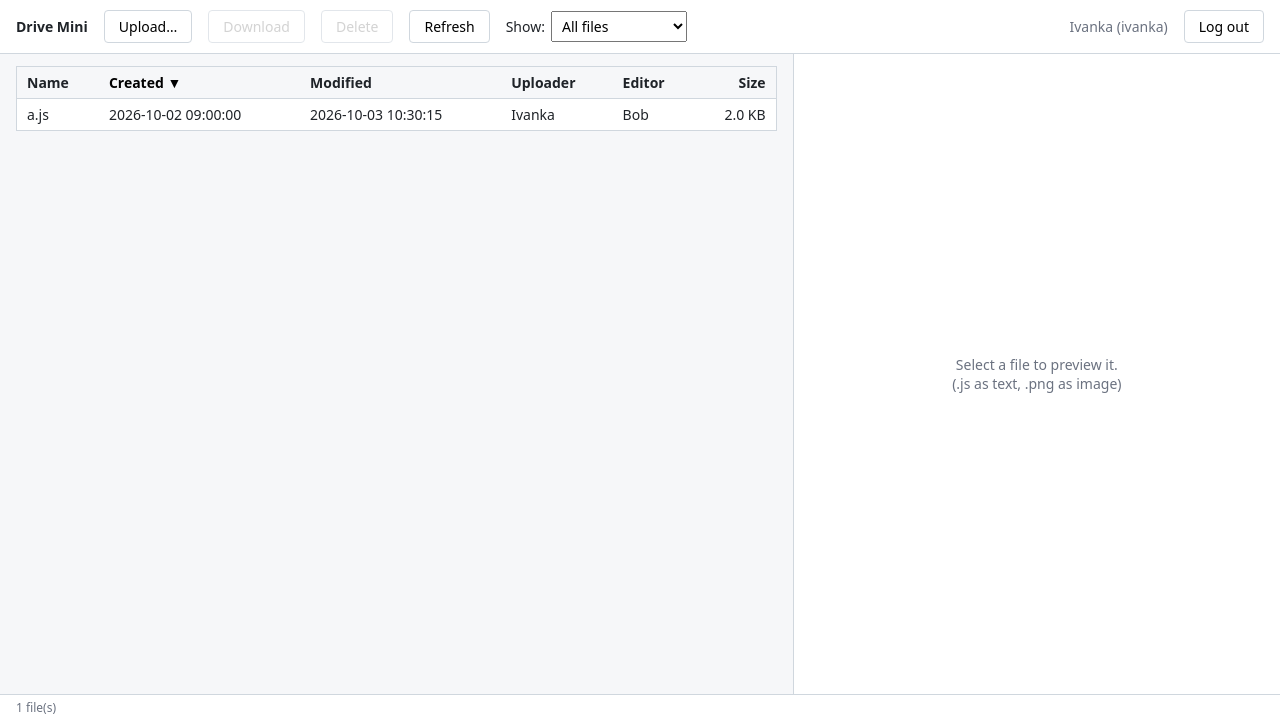
Download and Delete need a selected row
This screenshot has width=1280, height=720.
Click the text "a.js" at (58, 114), box [16,98,99,130]
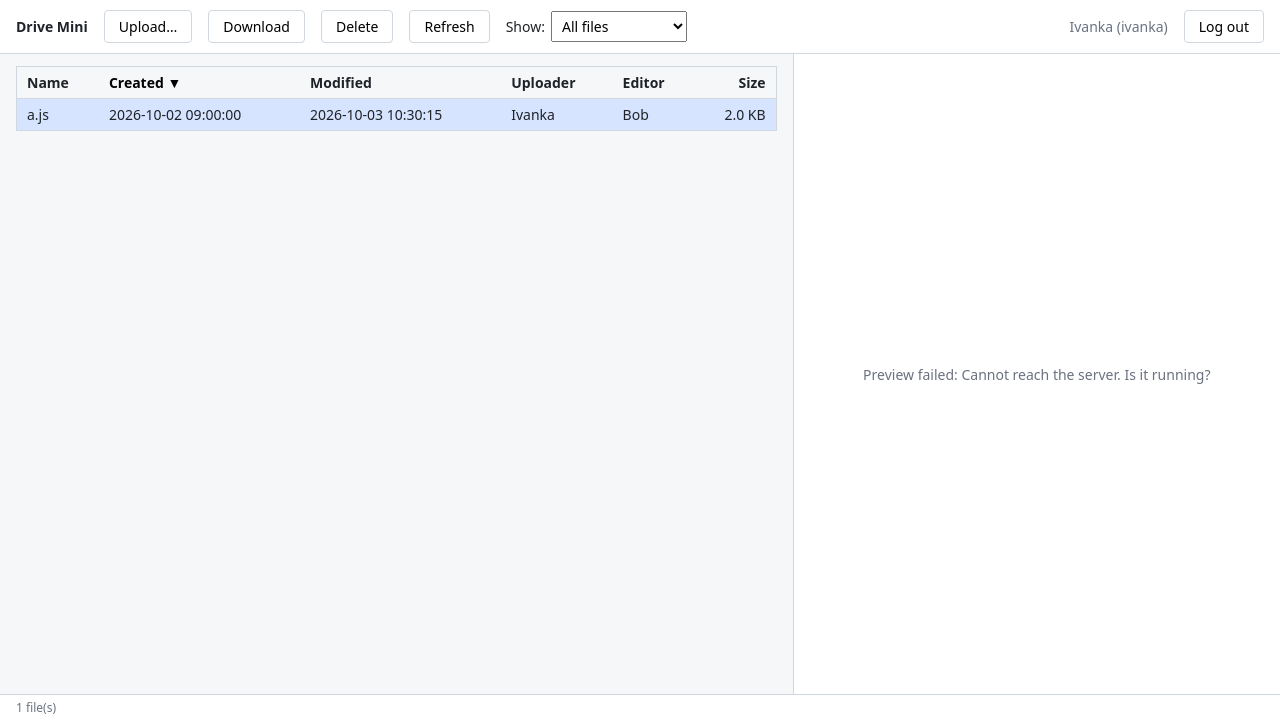
expect the button "Download" is enabled: met, box [208,10,305,43]
expect the button "Delete" is enabled: met, box [321,10,394,43]
